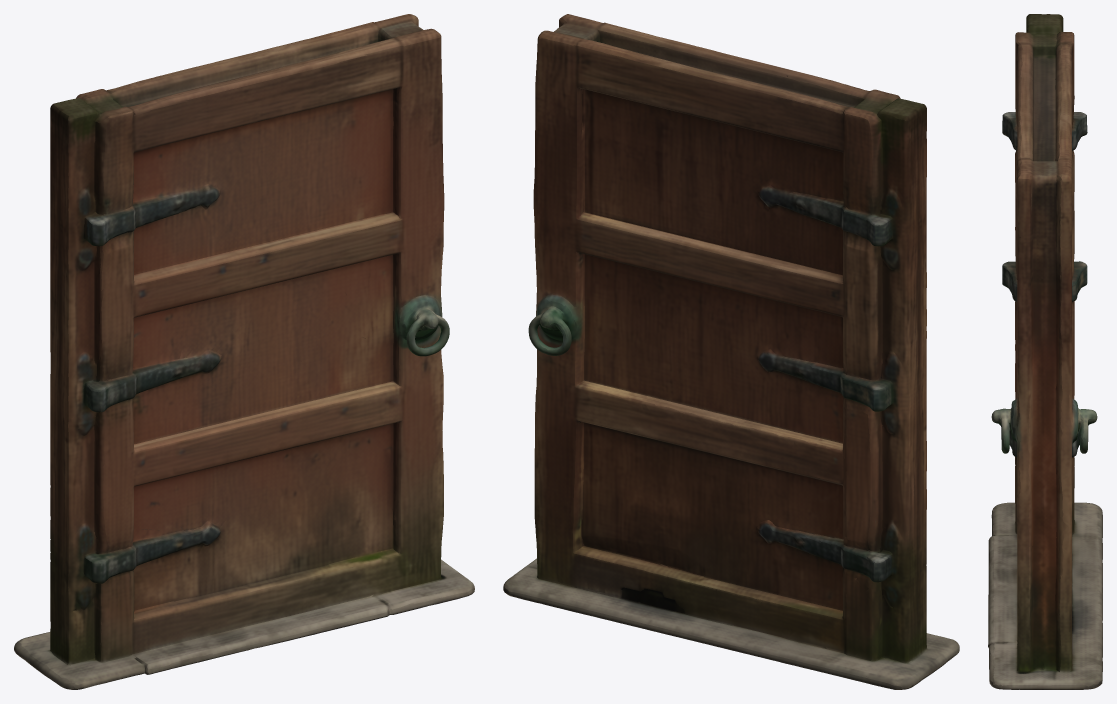
File: ARCH-014.glb
The picture shows the model from 3 angles, left to right: view 1: azimuth 30°, elevation 25°; view 2: azimuth 150°, elevation 25°; view 3: azimuth 270°, elevation 25°; orthographic projection. The views are drawn at different scales.
Parts seen in each view (by area): view 1: world; view 2: world; view 3: world.
Boxes of the visible parts, bbox=[...] form: world: bbox=[14, 14, 474, 689]; world: bbox=[503, 14, 959, 689]; world: bbox=[988, 14, 1102, 689].
Size of the model in its own units: 2 by 2.58 by 0.5322.
1 material, 1 textured.
